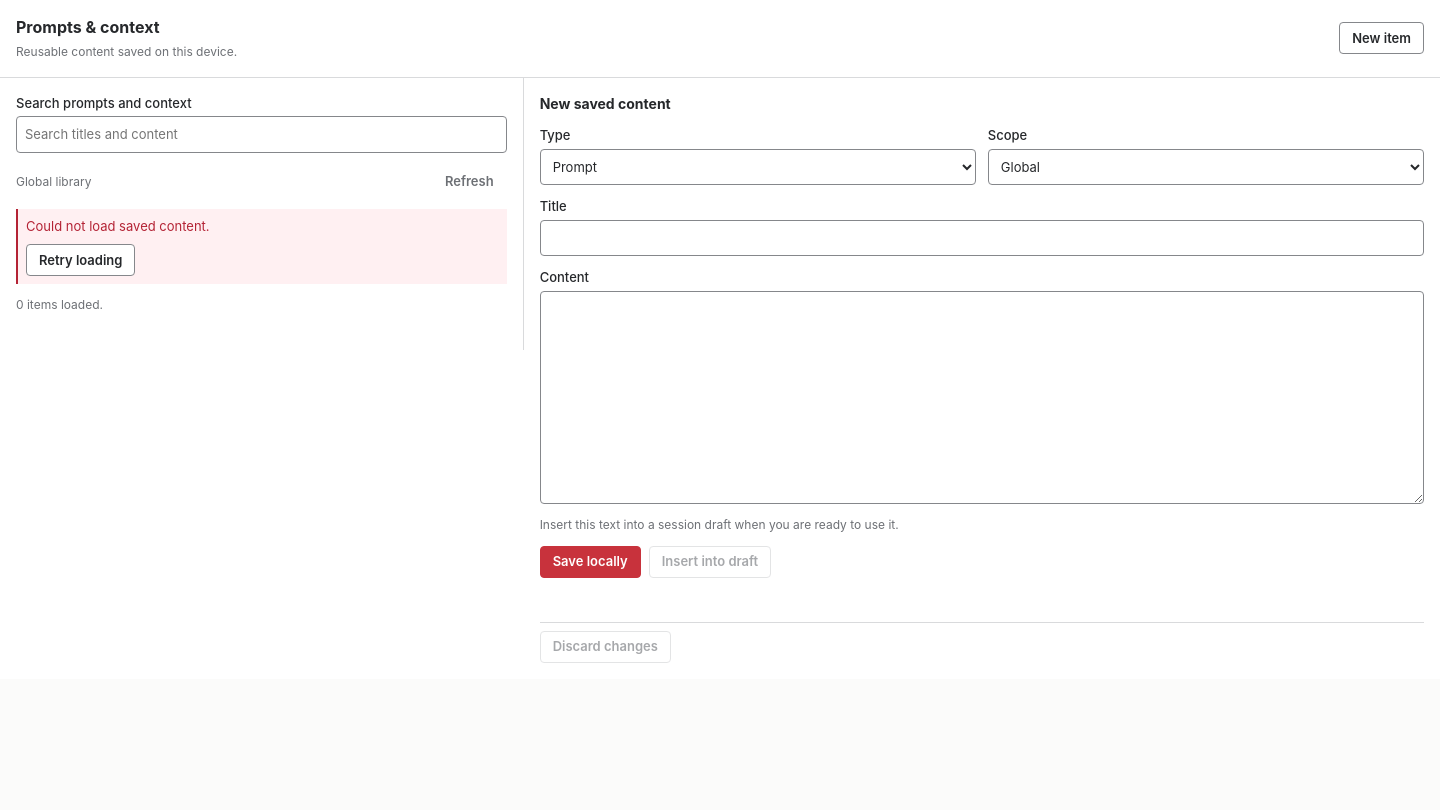
Test: KnowledgePanel › offers a retry after list failure while retaining a new draft
Check: the message "Could not load saved content. Retry loading" is shown, box [16, 209, 507, 284]
Type "Keep this draft" into the field labelled "Title". click: [982, 238]
box: [540, 220, 1424, 256]
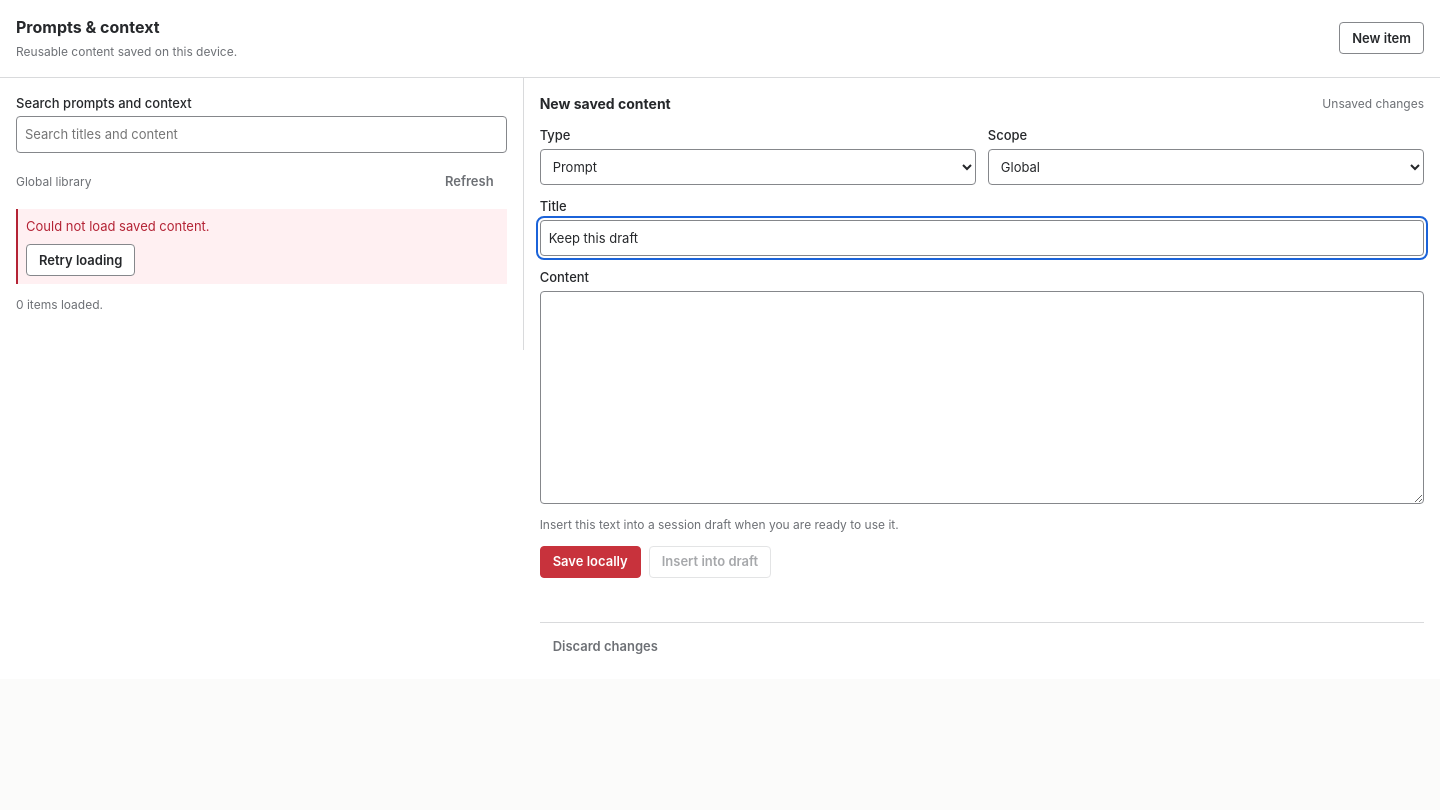
Click the button "Retry loading". click: [81, 260]
box: [26, 244, 135, 276]
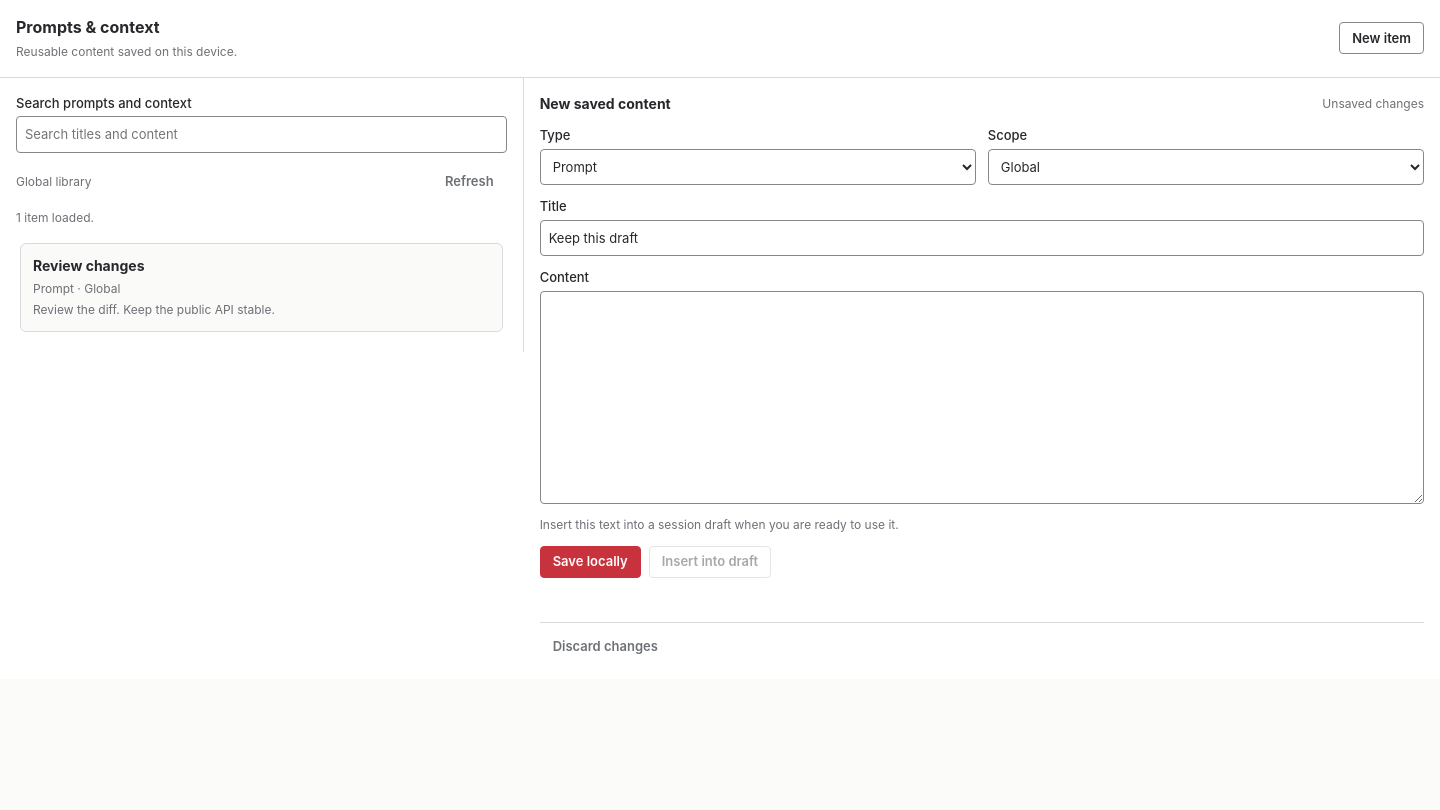
Check: the button "Review changes" is shown, box [20, 243, 503, 332]
